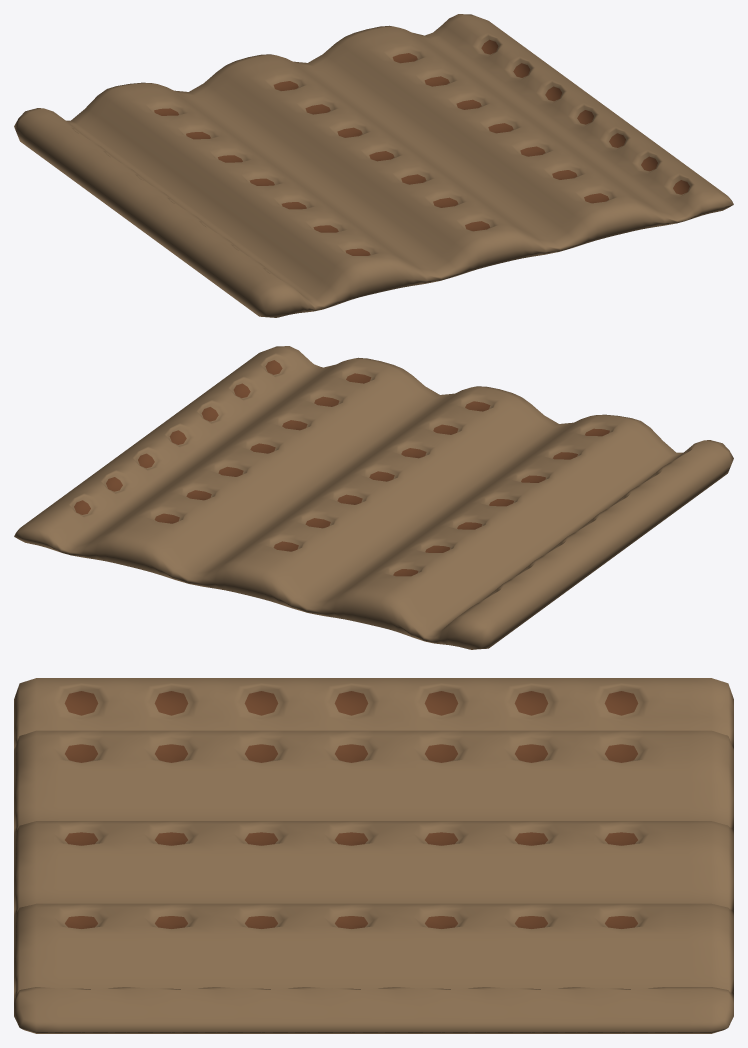
Rendered from feeld_with_wholes_no_seeds.fbx.
3 renders of one model, top to bottom at view 1: azimuth 30°, elevation 25°; view 2: azimuth 150°, elevation 25°; view 3: azimuth 270°, elevation 25°, orthographic. The views are drawn at different scales.
Parts seen in each view (by area): view 1: pCube121; view 2: pCube121; view 3: pCube121.
Boxes of the visible parts, left/top/right/bottom form: pCube121: left=14, top=14, right=733, bottom=317; pCube121: left=14, top=346, right=733, bottom=649; pCube121: left=14, top=678, right=733, bottom=1033.
Size of the model in its own units: 18.63 by 1.26 by 17.31.
